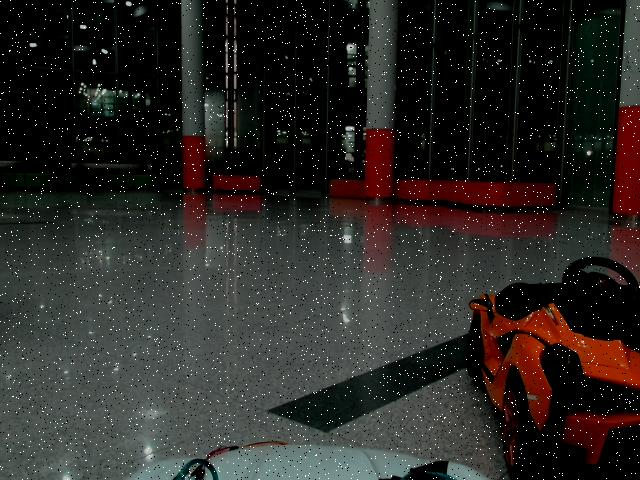car: (467, 257, 640, 478)
